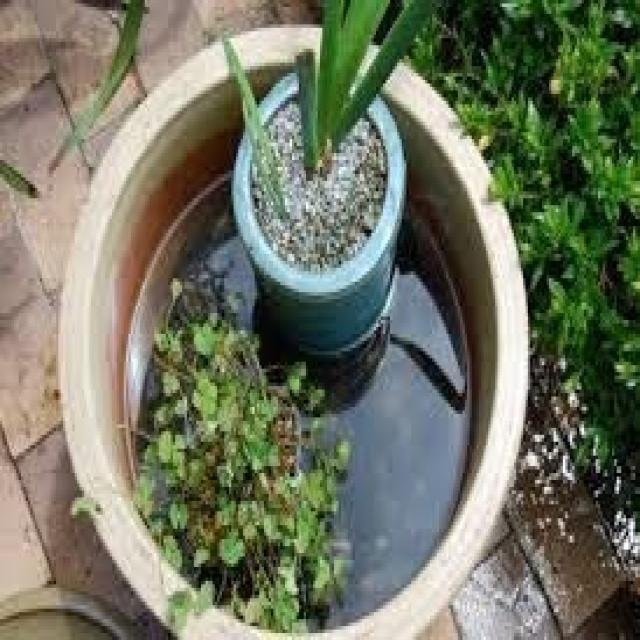Breeding Place: (63, 27, 535, 640)
